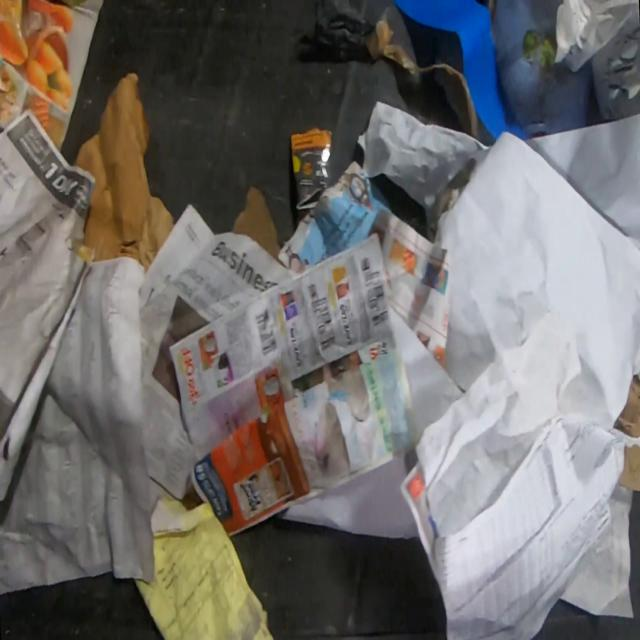cardboard: (72, 69, 176, 271), (228, 185, 288, 268), (610, 370, 640, 493)
